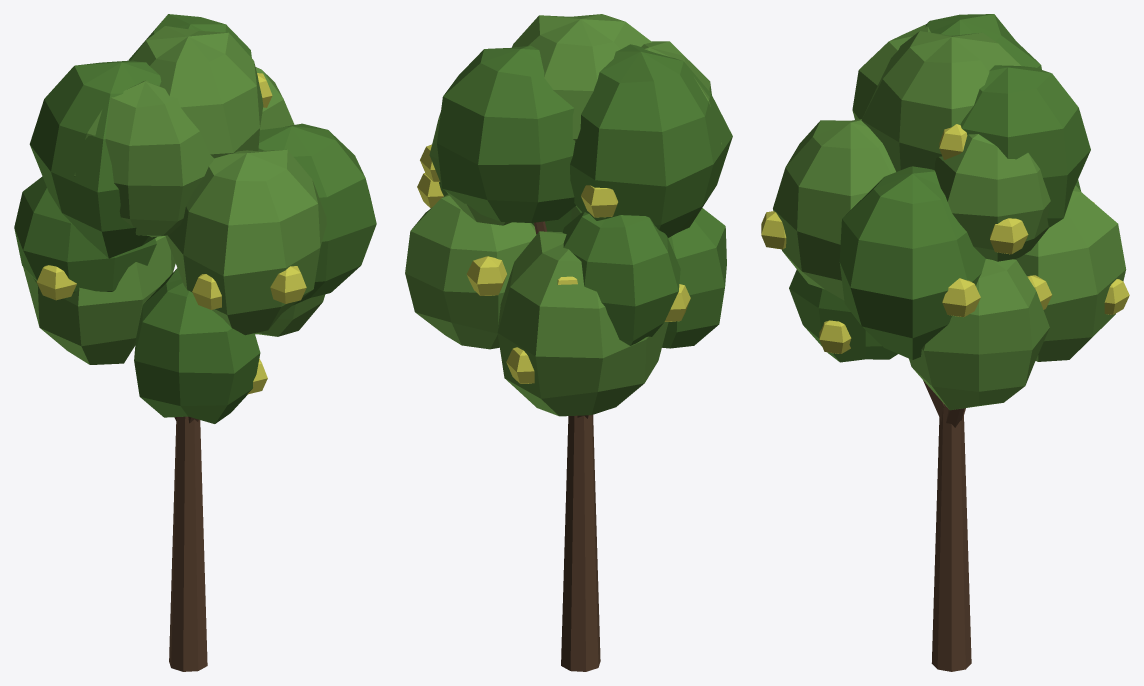
The model's file is tree_pear_small.glb.
3 renders of one model, left to right at view 1: azimuth 30°, elevation 25°; view 2: azimuth 150°, elevation 25°; view 3: azimuth 270°, elevation 25°, orthographic. The views are drawn at different scales.
Visible parts, largest first — view 1: tree_pear_small; view 2: tree_pear_small; view 3: tree_pear_small.
Boxes of the visible parts, <box> form: tree_pear_small: <box>14,14,376,671</box>; tree_pear_small: <box>405,14,732,671</box>; tree_pear_small: <box>761,14,1129,671</box>.
Size of the model in its own units: 2.16 by 4.37 by 2.33.
